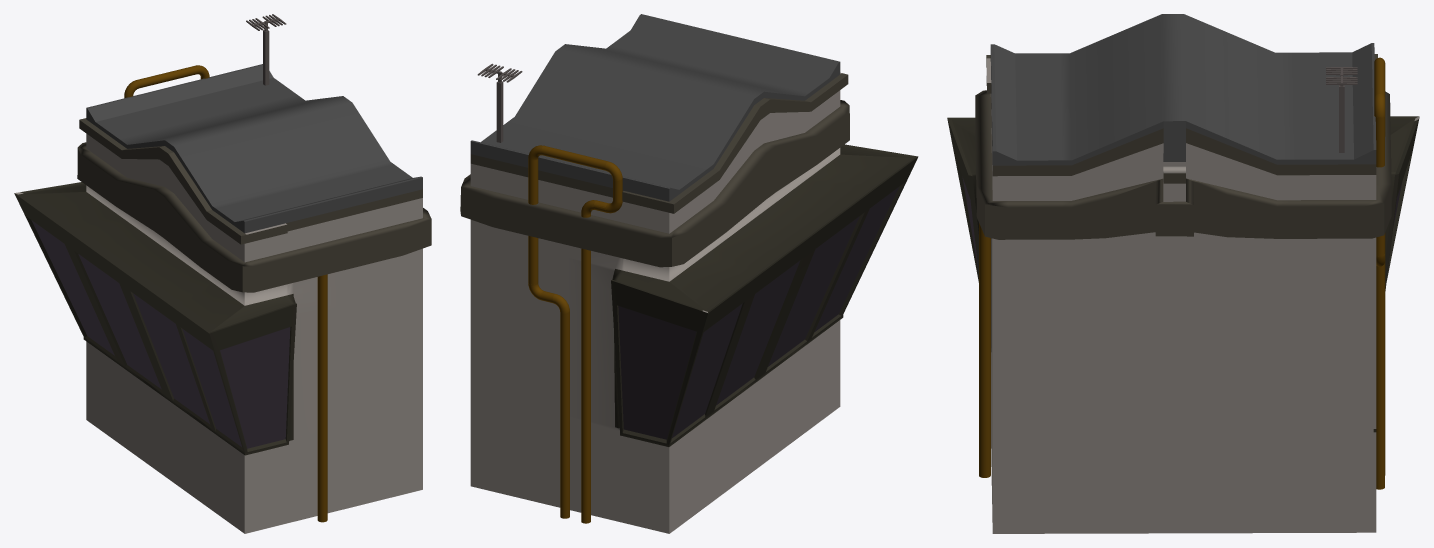
The model's file is 48_building8.fbx.
3 renders of one model, left to right at view 1: azimuth 30°, elevation 25°; view 2: azimuth 150°, elevation 25°; view 3: azimuth 270°, elevation 25°, orthographic. The views are drawn at different scales.
Parts seen in each view (by area): view 1: Buildings:pCube33, pCylinder342, pCube116, pCylinder339; view 2: Buildings:pCube33, pCylinder333, pCylinder337, pCylinder334, pCube116, pCylinder339; view 3: Buildings:pCube33, pCylinder342, pCylinder337, pCube116, pCylinder334.
Part boxes in pixels (box(x1,y1,x2,y2)): Buildings:pCube33: box(14, 64, 431, 533); pCylinder342: box(317, 274, 327, 522); pCube116: box(246, 14, 286, 85); pCylinder339: box(137, 65, 198, 88); Buildings:pCube33: box(460, 14, 918, 533); pCylinder333: box(581, 179, 622, 523); pCylinder337: box(560, 312, 569, 518); pCylinder334: box(528, 159, 538, 284); pCube116: box(477, 63, 522, 142); pCylinder339: box(541, 146, 607, 170); Buildings:pCube33: box(947, 14, 1419, 533); pCylinder342: box(979, 223, 990, 477); pCylinder337: box(1376, 263, 1384, 489); pCube116: box(1326, 67, 1357, 152); pCylinder334: box(1374, 116, 1384, 256).
Bounding box in the file's own units: 4.11 × 5.93 × 5.56.
